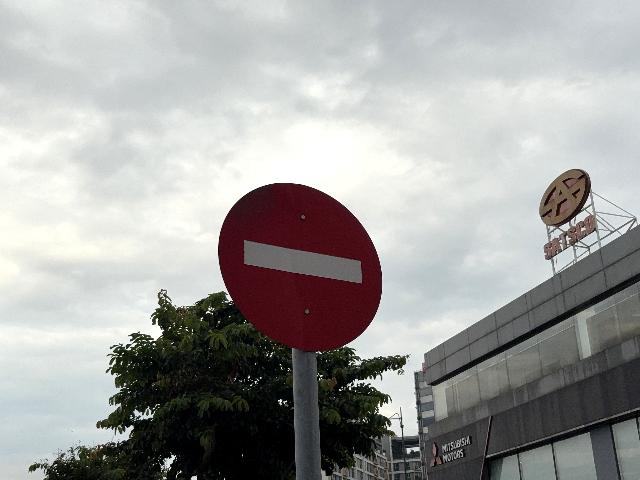cam-di-nguoc-chieu: (218, 183, 383, 352)
